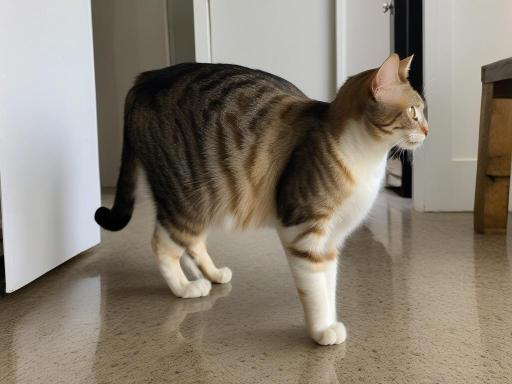cat_standing: (96, 54, 429, 344)
